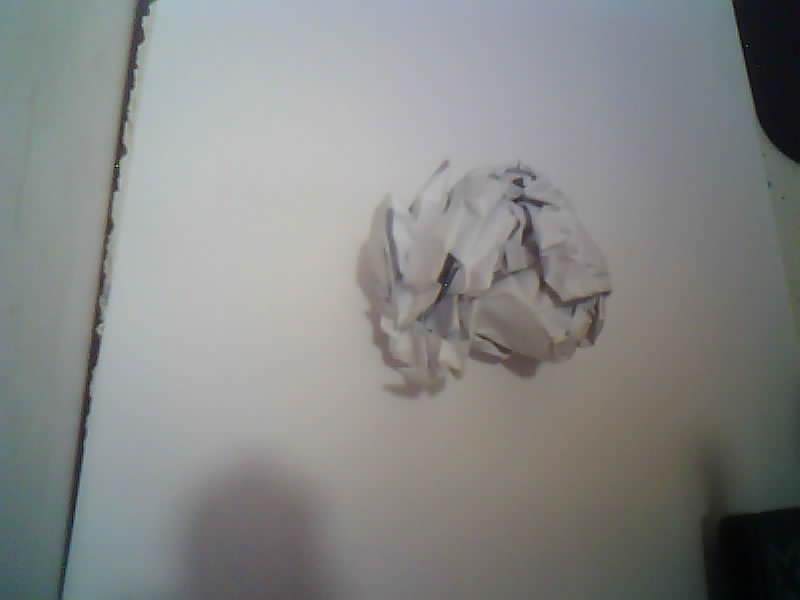biodegradable: (367, 162, 610, 385)
